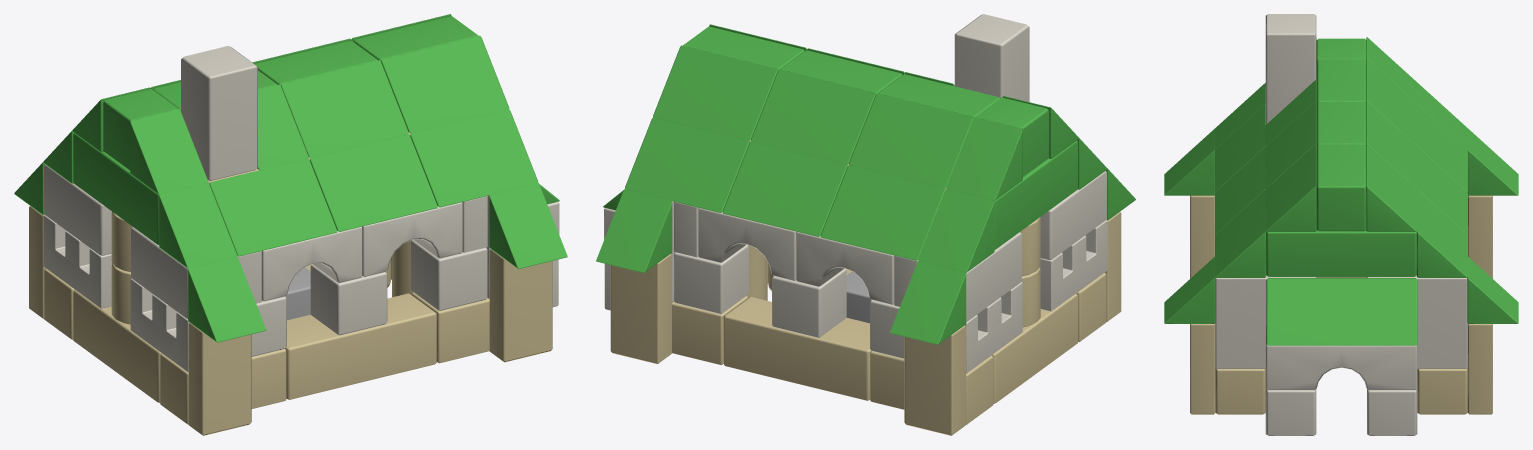
File: gun house.fbx
3 renders of one model, left to right at view 1: azimuth 30°, elevation 25°; view 2: azimuth 150°, elevation 25°; view 3: azimuth 270°, elevation 25°, orthographic. The views are drawn at different scales.
Visible parts, largest first — view 1: pCube494, pCube486, pCube448, pCube447, pCube449, pCube460, pCube461, pCube406, pCube409, pCube451, pCube450, pCube501 (+30 smaller); view 2: pCube500, pCube454, pCube453, pCube455, pCube479, pCube480, pCube478, pCube417, pCube418, pCube486, pCube457, pCube456 (+30 smaller); view 3: pCube412, pCube459, pCube395, pCube410, pCube411, pCube486, pCube484, pCube460, pCube480, pCube449, pCube455, pCube394 (+25 smaller).
Boxes of the visible parts, box(x1,y1,x2,y2) form: pCube494: box(285, 293, 436, 399); pCube486: box(181, 46, 257, 181); pCube448: box(310, 134, 437, 231); pCube447: box(209, 158, 337, 256); pCube449: box(410, 109, 538, 207); pCube460: box(381, 35, 509, 133); pCube461: box(281, 60, 408, 157); pCube406: box(489, 249, 552, 362); pCube409: box(188, 322, 251, 435); pCube451: box(489, 183, 567, 269); pCube450: box(188, 256, 266, 342); pCube501: box(130, 109, 208, 194); pCube500: box(723, 297, 871, 400); pCube454: box(722, 141, 847, 236); pCube453: box(820, 165, 945, 260); pCube455: box(625, 117, 749, 212); pCube479: box(751, 69, 875, 164); pCube480: box(653, 45, 777, 140); pCube478: box(849, 93, 973, 188); pCube417: box(610, 254, 671, 364); pCube418: box(904, 325, 965, 435); pCube486: box(954, 14, 1029, 101); pCube457: box(890, 261, 966, 344); pCube456: box(596, 189, 672, 272); pCube412: box(1266, 278, 1417, 345); pCube459: box(1266, 230, 1416, 276); pCube395: box(1265, 326, 1417, 390); pCube410: box(1215, 275, 1316, 368); pCube411: box(1367, 275, 1467, 368); pCube486: box(1265, 14, 1316, 123); pCube484: box(1316, 144, 1366, 231); pCube460: box(1265, 144, 1316, 231); pCube480: box(1366, 144, 1417, 231); pCube449: box(1215, 190, 1265, 277); pCube455: box(1417, 190, 1467, 277); pCube394: box(1265, 389, 1316, 435).
Size of the model in its own units: 144 by 108 by 126.
